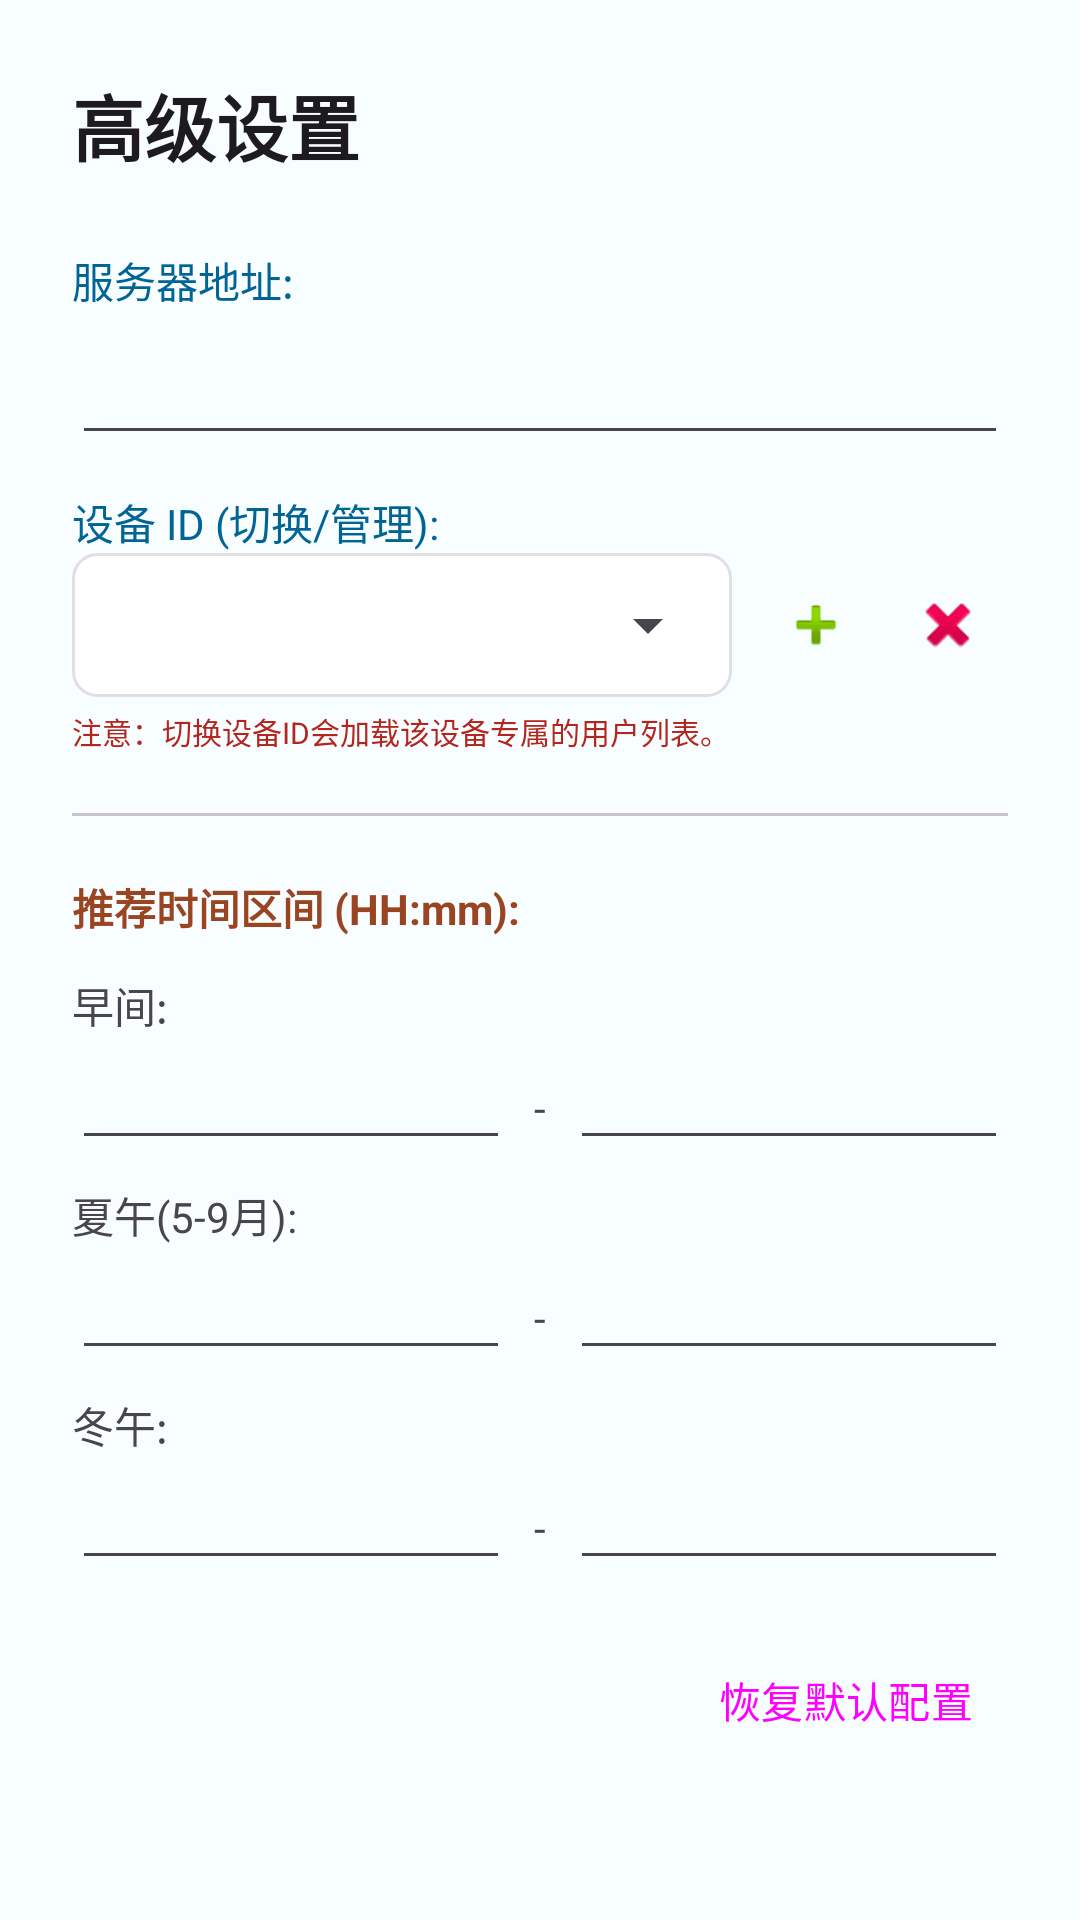

Named icons in this screenshot (1080*1920) and their bounding boxes, (x1, y1, x2, y2):
add: (795, 605, 837, 645)
delete: (925, 603, 971, 647)
